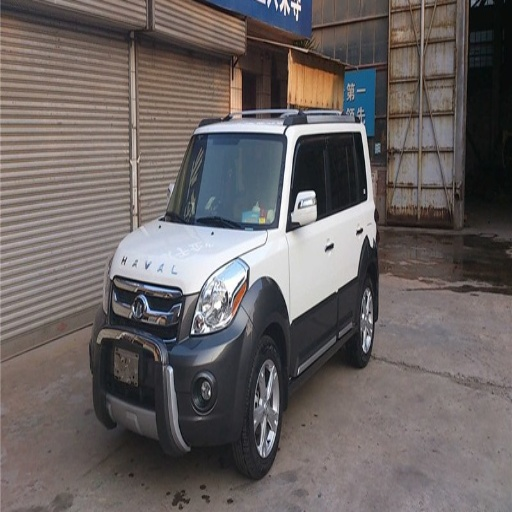front_bumper: (92, 272, 253, 449)
front_glass: (163, 133, 285, 228)
front_left_door: (286, 156, 337, 366)
